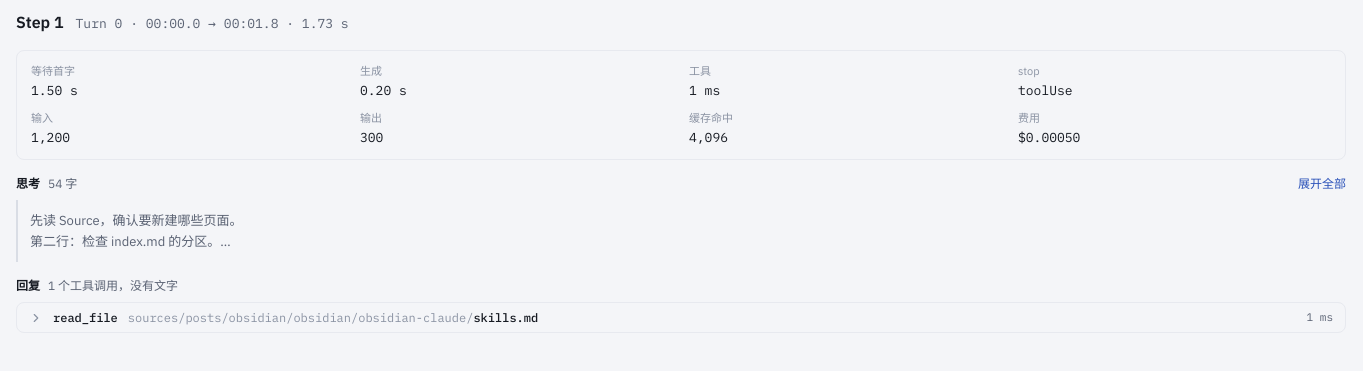
it: StepDetail › collapses thinking to two lines by default and expands on demand
This screenshot has width=1363, height=371.
Click the button "展开全部" at (1322, 184), box 1298,176 -> 1346,192
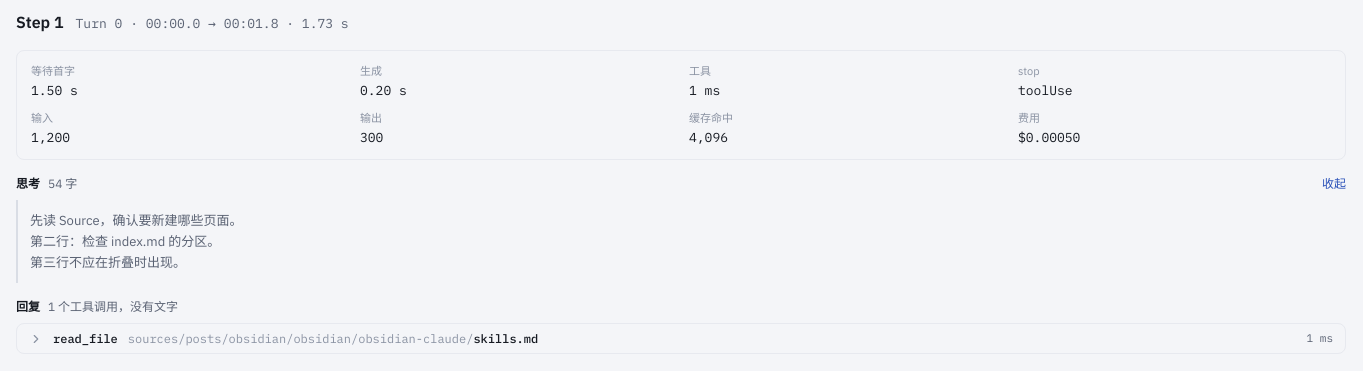
Now the button "收起" is shown, box 1322,176 -> 1346,192
